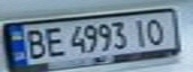3: (109, 19, 130, 49)
4: (66, 22, 87, 54)
9: (81, 21, 100, 53), (96, 20, 115, 52)
B: (21, 26, 48, 60)
E: (39, 25, 66, 57)
I: (127, 16, 151, 47)
O: (142, 16, 169, 45)
